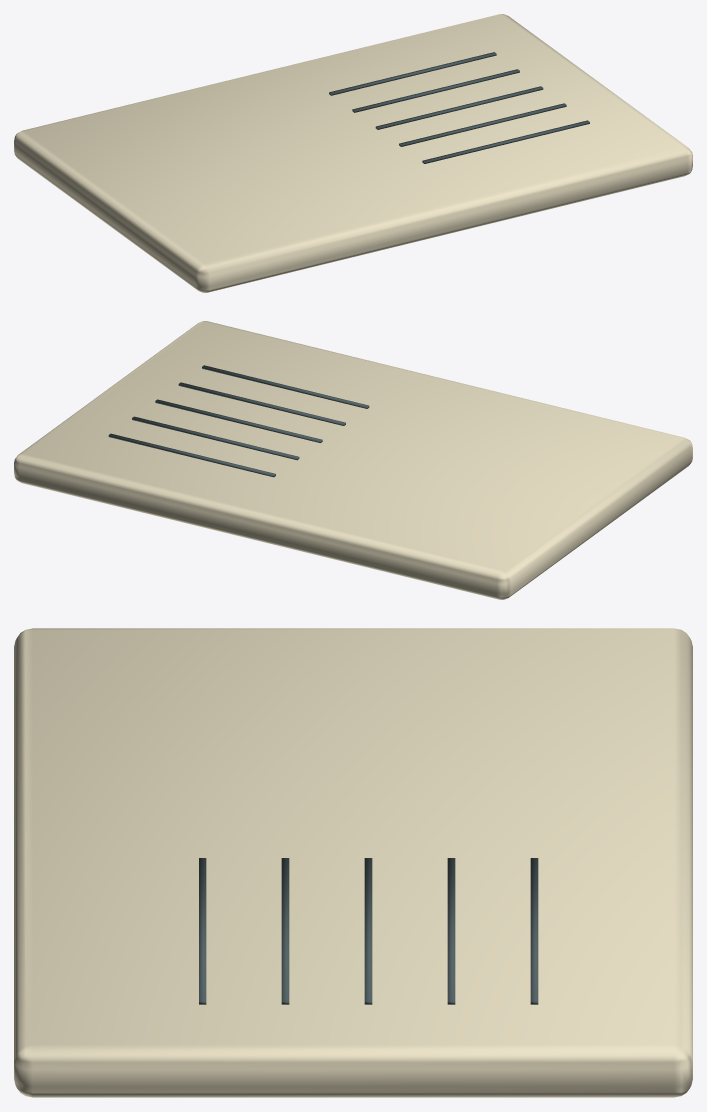
Rendered from urban-workbook-v1.glb.
3 renders of one model, top to bottom at view 1: azimuth 30°, elevation 25°; view 2: azimuth 150°, elevation 25°; view 3: azimuth 270°, elevation 25°, orthographic. The views are drawn at different scales.
Visible parts, largest first — view 1: Open workbook, Workbook lines.002, Workbook lines.003, Workbook lines.004, Workbook lines, Workbook lines.001; view 2: Open workbook, Workbook lines, Workbook lines.003, Workbook lines.004, Workbook lines.002, Workbook lines.001; view 3: Open workbook, Workbook lines.001, Workbook lines.002, Workbook lines.003, Workbook lines.004, Workbook lines.
Boxes of the visible parts, left/top/right/bottom form: Open workbook: left=14, top=14, right=692, bottom=292; Workbook lines.002: left=375, top=86, right=543, bottom=129; Workbook lines.003: left=352, top=69, right=519, bottom=112; Workbook lines.004: left=329, top=52, right=496, bottom=95; Workbook lines: left=422, top=120, right=589, bottom=163; Workbook lines.001: left=399, top=103, right=566, bottom=146; Open workbook: left=14, top=321, right=692, bottom=599; Workbook lines: left=202, top=365, right=369, bottom=408; Workbook lines.003: left=132, top=416, right=299, bottom=460; Workbook lines.004: left=108, top=433, right=275, bottom=477; Workbook lines.002: left=155, top=399, right=322, bottom=442; Workbook lines.001: left=178, top=382, right=345, bottom=425; Open workbook: left=14, top=628, right=692, bottom=1097; Workbook lines.001: left=281, top=858, right=289, bottom=1004; Workbook lines.002: left=364, top=858, right=372, bottom=1004; Workbook lines.003: left=447, top=858, right=455, bottom=1004; Workbook lines.004: left=530, top=858, right=538, bottom=1004; Workbook lines: left=199, top=858, right=206, bottom=1004.
Size of the model in its own units: 0.27 by 0.016 by 0.18.
2 materials, 2 textured.
